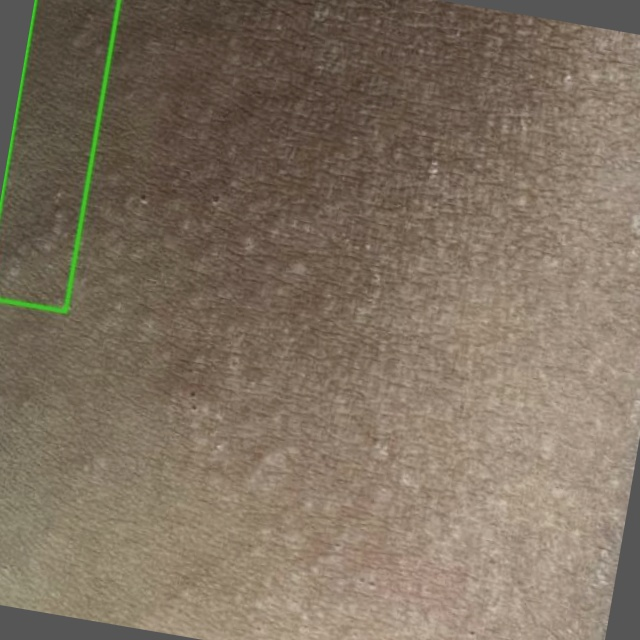Contact Dermatitis: (0, 0, 120, 311)
